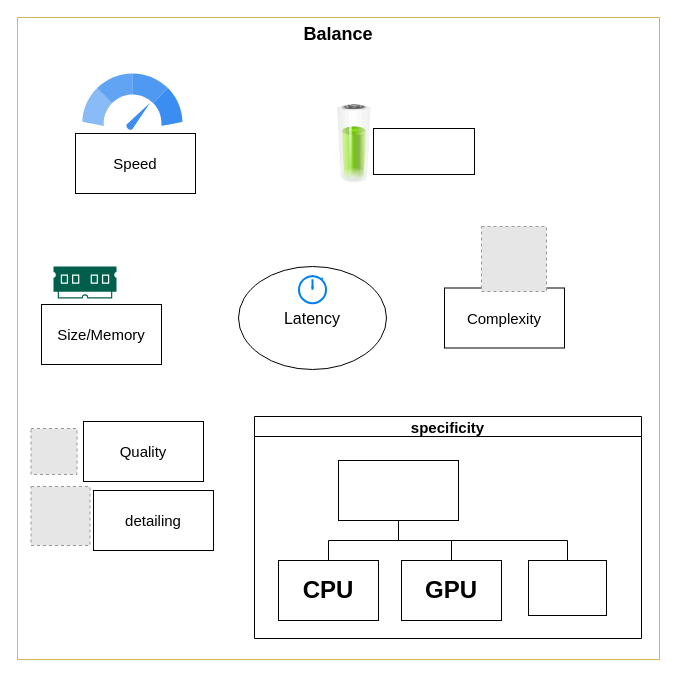
The diagram is 677 pixels wide and 677 high, and some of its shapes have lost their labels. Grey dashed boxes stand in for pictures. The centre of each missing label's shape, as x and y in pixels:
"Computational (Battery)" goes at pixel 423 151.
"NPU" goes at pixel 567 588.
"Optimization" goes at pixel 398 490.
